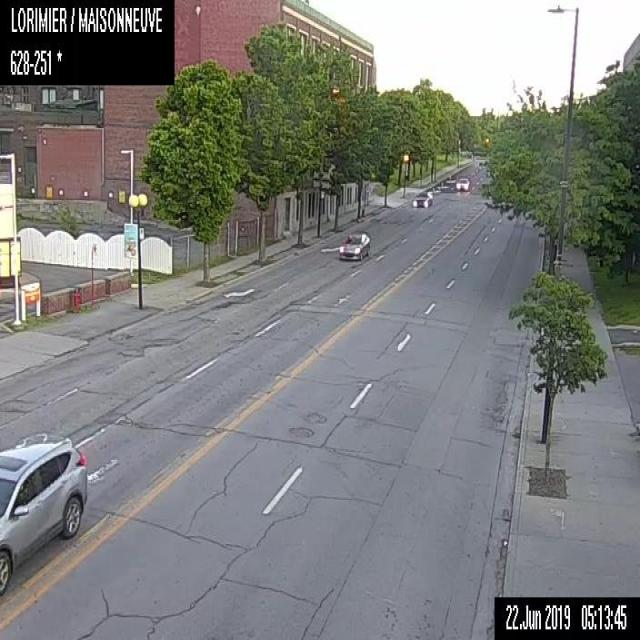vehicle: (0, 437, 88, 595), (337, 229, 369, 259), (411, 187, 432, 208), (455, 174, 470, 190)
